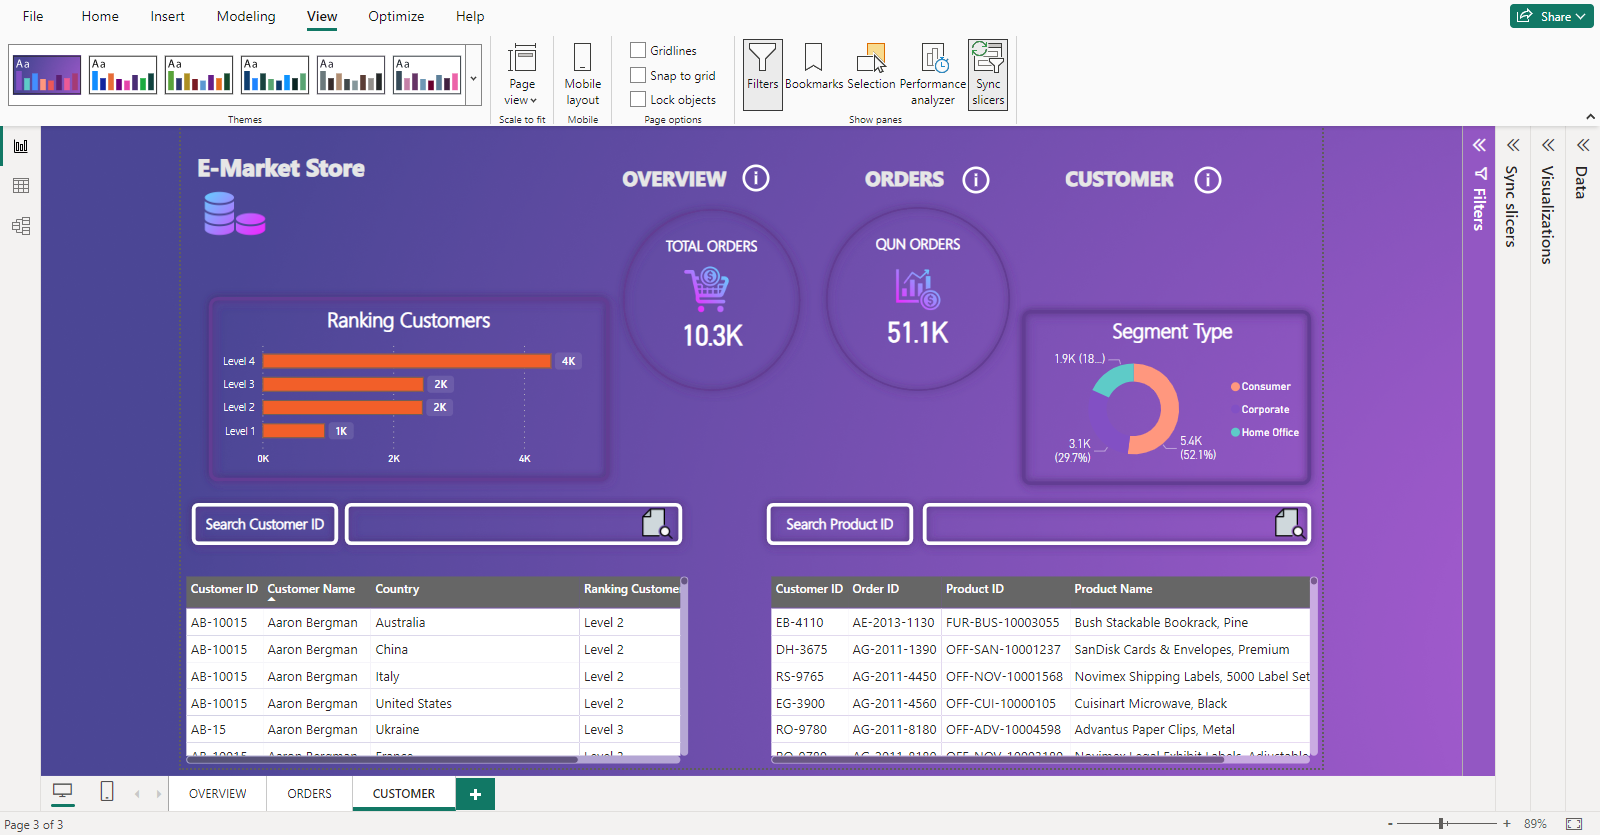

What the dashboard file says about the page in this screenshot:
{"tool":"powerbi","page":{"name":"CUSTOMER","canvas":[1280,720],"ordinal":3},"visuals":[{"type":"shape","box":[483.8,81.2,223.8,228.8],"z":0},{"type":"shape","box":[711,78.5,231,231],"z":1000},{"type":"actionButton","box":[443,29.2,220.9,58.3],"z":2000},{"type":"actionButton","box":[700.9,29.2,220.9,58.3],"z":3000},{"type":"actionButton","box":[942.1,29.2,220.9,58.3],"z":4000},{"type":"actionButton","box":[0,2.2,224.3,85.2],"z":5000},{"type":"card","fields":{"Values":["Orders.Total-orders"]},"box":[535,208.8,121.2,46.2],"z":6000},{"type":"image","box":[773.8,152.5,105.4,61.7],"z":7000},{"type":"image","box":[533.8,151.2,111.2,62.5],"z":8000},{"type":"image","box":[19.1,58.3,81.9,78.5],"z":9000},{"type":"actionButton","box":[1131.6,40.4,99.8,40.4],"z":10000},{"type":"tableEx","fields":{"Values":["Orders.Customer ID","Orders.Customer Name","Orders.Country","Orders.Ranking Customer ","Orders.Market","All Maseure.Total Sales"]},"box":[0,500,574.2,220.1],"z":11000},{"type":"tableEx","fields":{"Values":["Orders.Customer ID","Orders.Order ID","Orders.Product ID","Orders.Product Name","Sum(Orders.Quantity)"]},"box":[656.3,500,623.7,220.1],"z":12000},{"type":"shape","box":[644.9,410.5,188.4,71.8],"z":13000},{"type":"shape","box":[819.8,410.5,459.8,71.8],"z":14000},{"type":"shape","box":[0,410.5,188.4,71.8],"z":15000},{"type":"shape","box":[171.6,410.5,402.6,71.8],"z":16000},{"type":"image","box":[510.3,423.9,48.2,43.7],"z":17000},{"type":"image","box":[1220.2,423.9,48.2,43.7],"z":18000},{"type":"shape","box":[930.8,194,348.8,220.9],"z":19000},{"type":"donutChart","title":"Segment Type","fields":{"Category":["Orders.Segment"],"Y":["Orders.Total-orders"]},"box":[955.5,214.2,312.9,176.1],"z":20000},{"type":"actionButton","box":[624.7,38.1,99.8,40.4],"z":21000},{"type":"actionButton","box":[871.4,40.4,99.8,40.4],"z":22000},{"type":"card","fields":{"Values":["All Maseure.Total Quantity"]},"box":[761.9,196.1,129.2,65.8],"z":23000},{"type":"shape","box":[19.3,179.1,473.9,231.3],"z":24000},{"type":"barChart","title":"Ranking Customers","fields":{"Category":["Orders.Ranking Customer ","Orders.Ship Mode"],"Y":["CountNonNull(Orders.Customer ID)"]},"box":[40.8,201.8,429.7,184.8],"z":25000}]}

Visuals, with their boxes on the page's 1280x720 design canvas (x1, y1, x2, y2). These are canvas units, not pixel positions in the 1600x835 screenshot, which may show the page scaled, cropped or inside an application window:
shape: box=[484, 81, 708, 310]
shape: box=[711, 78, 942, 310]
actionButton: box=[443, 29, 664, 88]
actionButton: box=[701, 29, 922, 88]
actionButton: box=[942, 29, 1163, 88]
actionButton: box=[0, 2, 224, 87]
card - Orders.Total-orders: box=[535, 209, 656, 255]
image: box=[774, 152, 879, 214]
image: box=[534, 151, 645, 214]
image: box=[19, 58, 101, 137]
actionButton: box=[1132, 40, 1231, 81]
tableEx - Orders.Customer ID x Orders.Customer Name: box=[0, 500, 574, 720]
tableEx - Orders.Customer ID x Orders.Order ID: box=[656, 500, 1280, 720]
shape: box=[645, 410, 833, 482]
shape: box=[820, 410, 1280, 482]
shape: box=[0, 410, 188, 482]
shape: box=[172, 410, 574, 482]
image: box=[510, 424, 558, 468]
image: box=[1220, 424, 1268, 468]
shape: box=[931, 194, 1280, 415]
"Segment Type" donutChart: box=[956, 214, 1268, 390]
actionButton: box=[625, 38, 724, 78]
actionButton: box=[871, 40, 971, 81]
card - All Maseure.Total Quantity: box=[762, 196, 891, 262]
shape: box=[19, 179, 493, 410]
"Ranking Customers" barChart: box=[41, 202, 470, 387]
